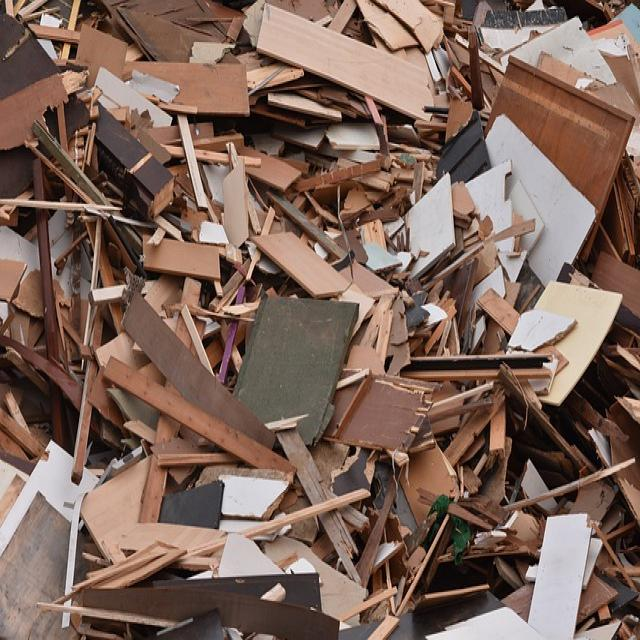green waste: (0, 6, 637, 640)
